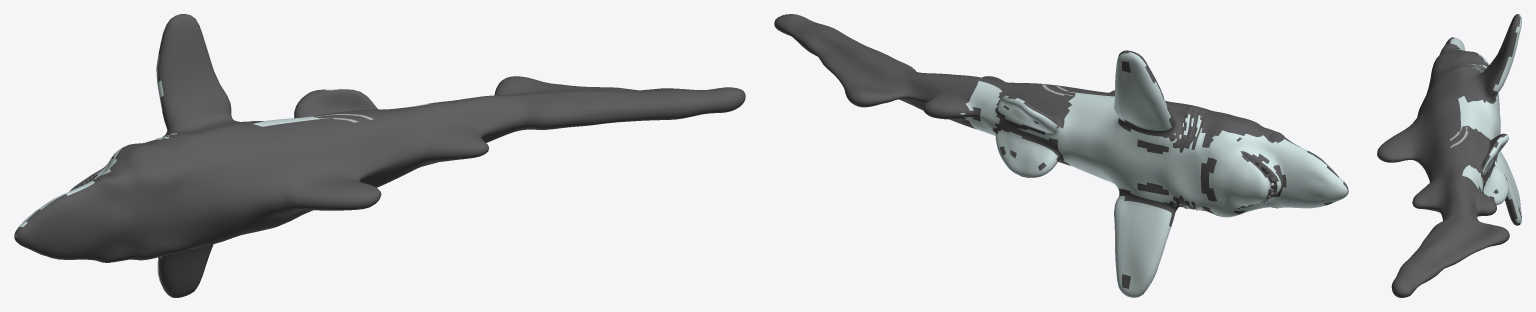
File: finished goblinshark.fbx
3 renders of one model, left to right at view 1: azimuth 30°, elevation 25°; view 2: azimuth 150°, elevation 25°; view 3: azimuth 270°, elevation 25°, orthographic. The views are drawn at different scales.
Visible parts, largest first — view 1: 21861_Goblin_Shark_v1; view 2: 21861_Goblin_Shark_v1; view 3: 21861_Goblin_Shark_v1.
Part boxes in pixels (bbox=[...]): 21861_Goblin_Shark_v1: bbox=[14, 14, 745, 297]; 21861_Goblin_Shark_v1: bbox=[774, 14, 1348, 297]; 21861_Goblin_Shark_v1: bbox=[1377, 14, 1521, 297].
Bounding box in the file's own units: 15986 × 6218 × 3919.
Materials: 1 (1 with a texture image).
